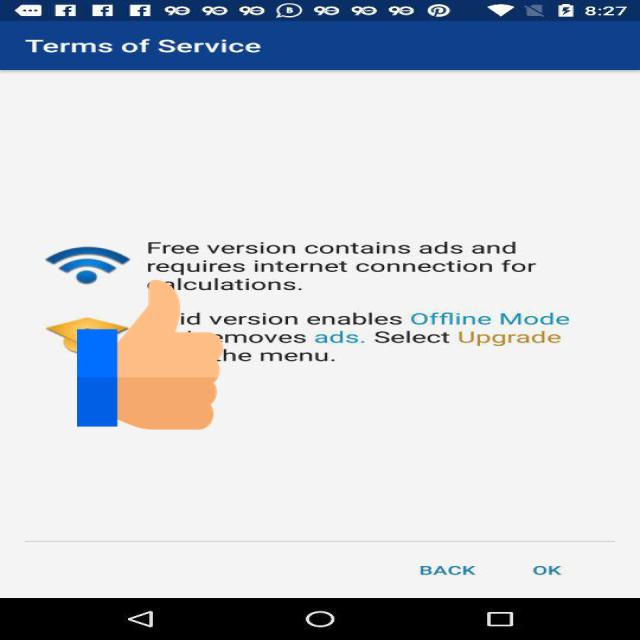privacy zuckering: (77, 276, 223, 433)
